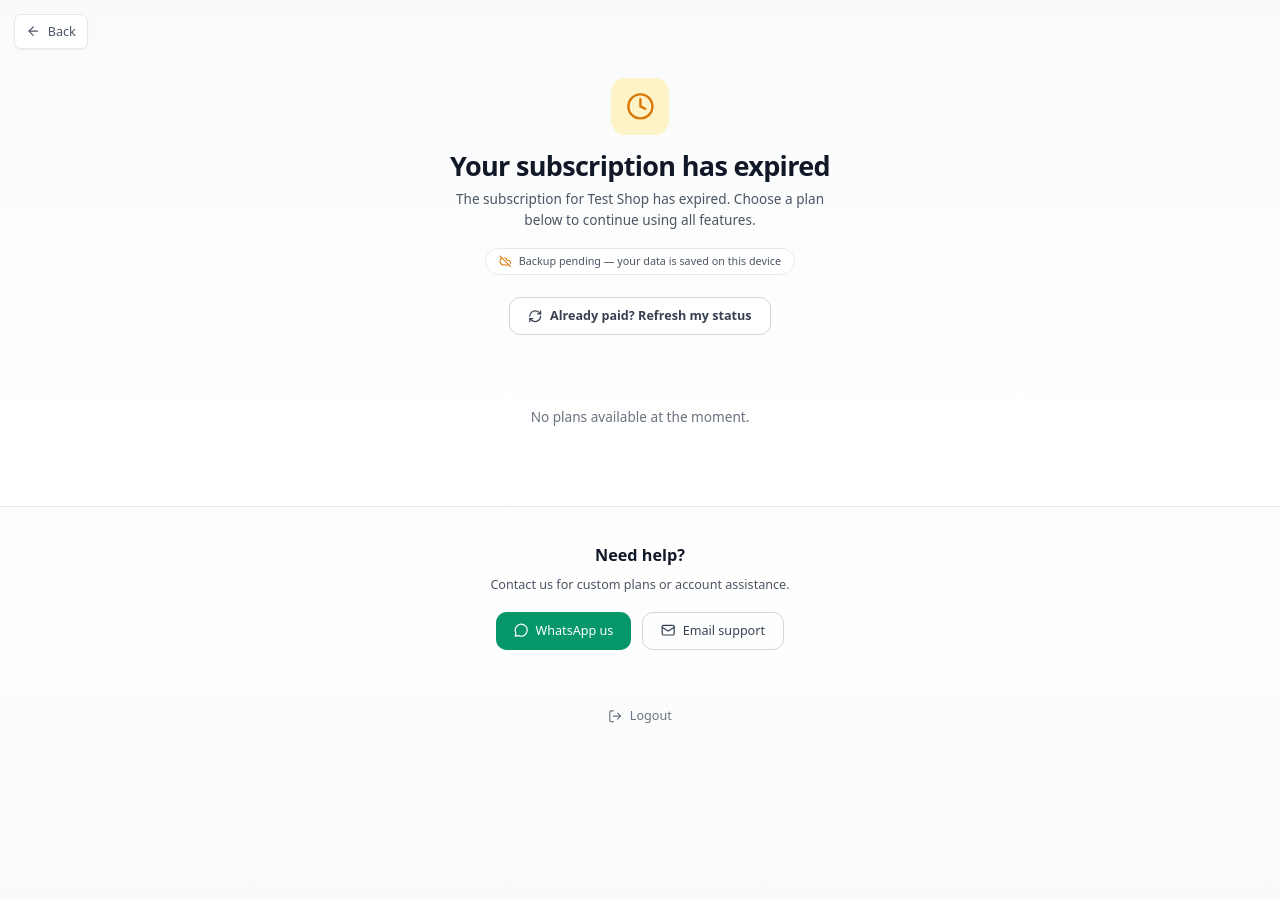
TrialExpired — "already paid" recovery › surfaces a failed request instead of silently doing nothing
The width and height of the screenshot is (1280, 900).
Click the button "Already paid? Refresh my status" at (640, 316), box [509,297,771,335]
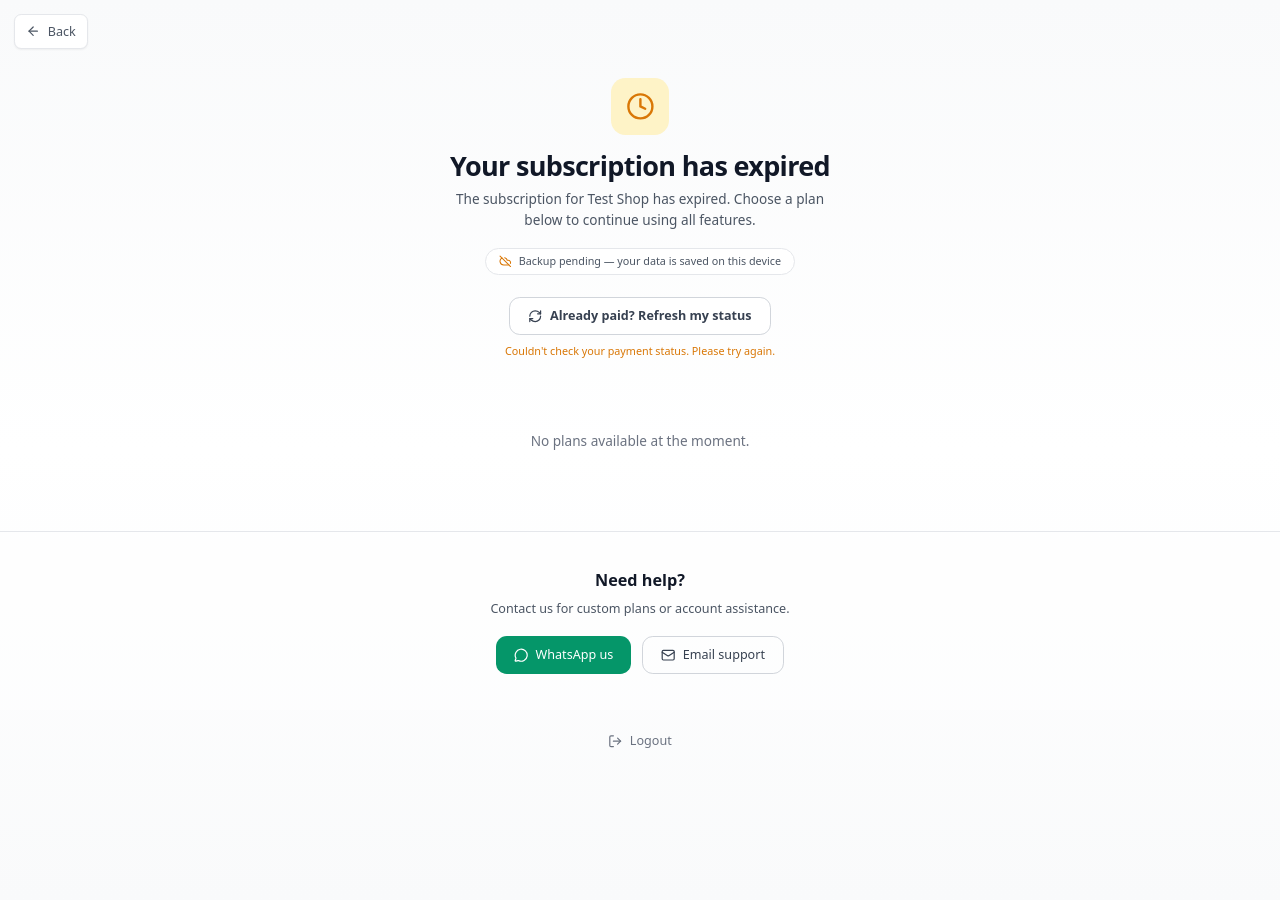
Now the text "Couldn't check your payment status. Please try again." is shown, box [505,342,775,359]
